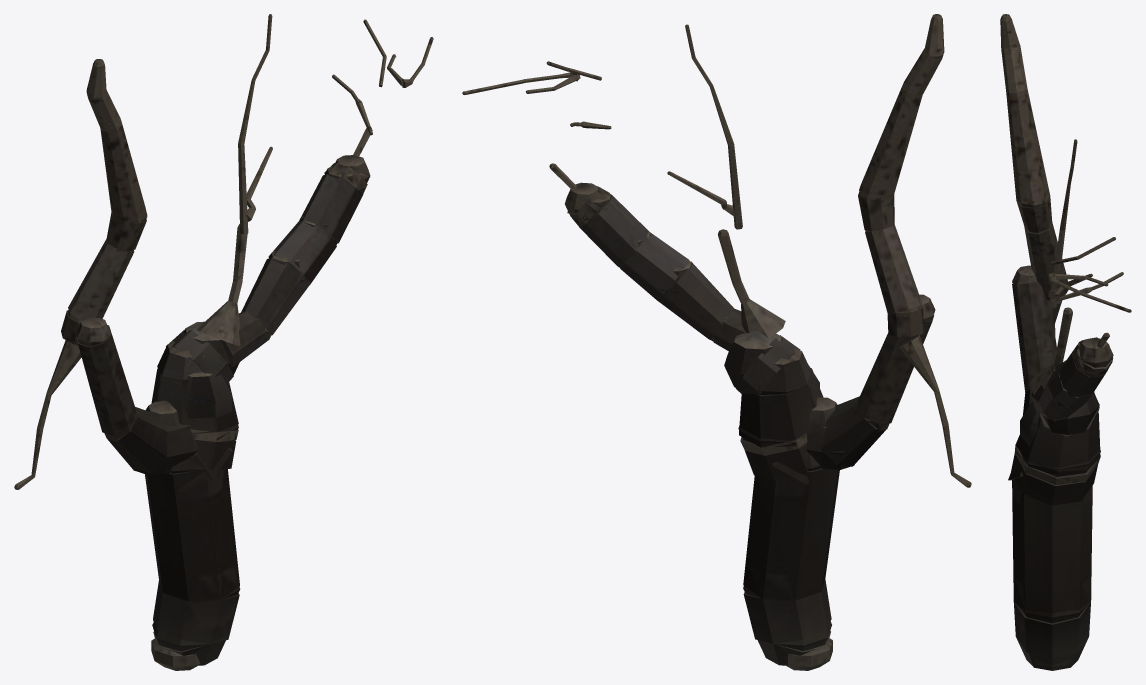
The model's file is ashland-lichen-tree.glb.
3 views of the same model, side by side, from view 1: azimuth 30°, elevation 25°; view 2: azimuth 150°, elevation 25°; view 3: azimuth 270°, elevation 25° (orthographic). The views are drawn at different scales.
Parts seen in each view (by area): view 1: body; view 2: body; view 3: body.
Boxes of the visible parts, left/top/right/bottom form: body: left=14, top=14, right=433, bottom=670; body: left=462, top=14, right=971, bottom=670; body: left=1000, top=14, right=1131, bottom=670.
Bounding box in the file's own units: 3.17 × 4.3 × 0.849.
Materials: 1 (1 with a texture image).
